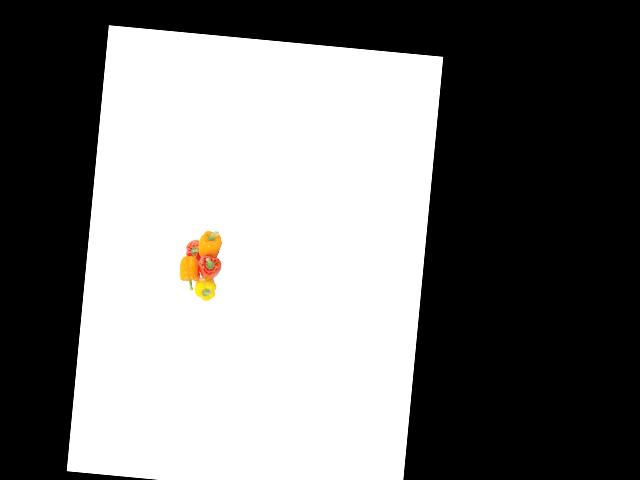bell_pepper: (194, 223, 225, 260)
